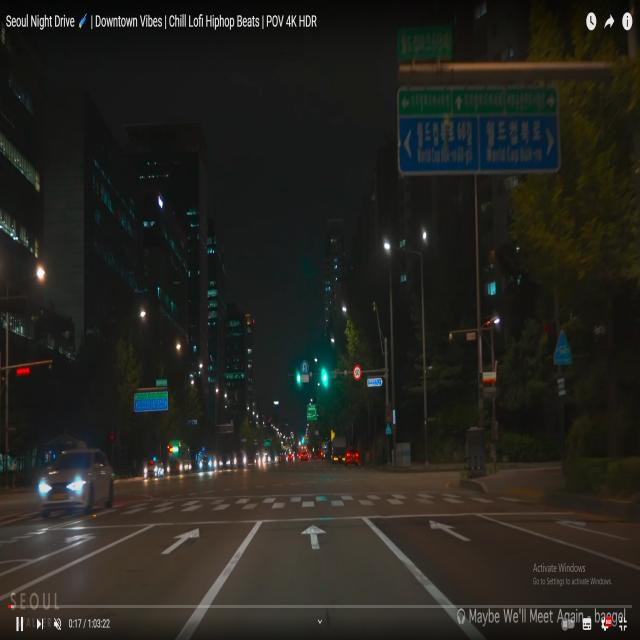headlights: (34, 468, 94, 503), (141, 464, 160, 480)
